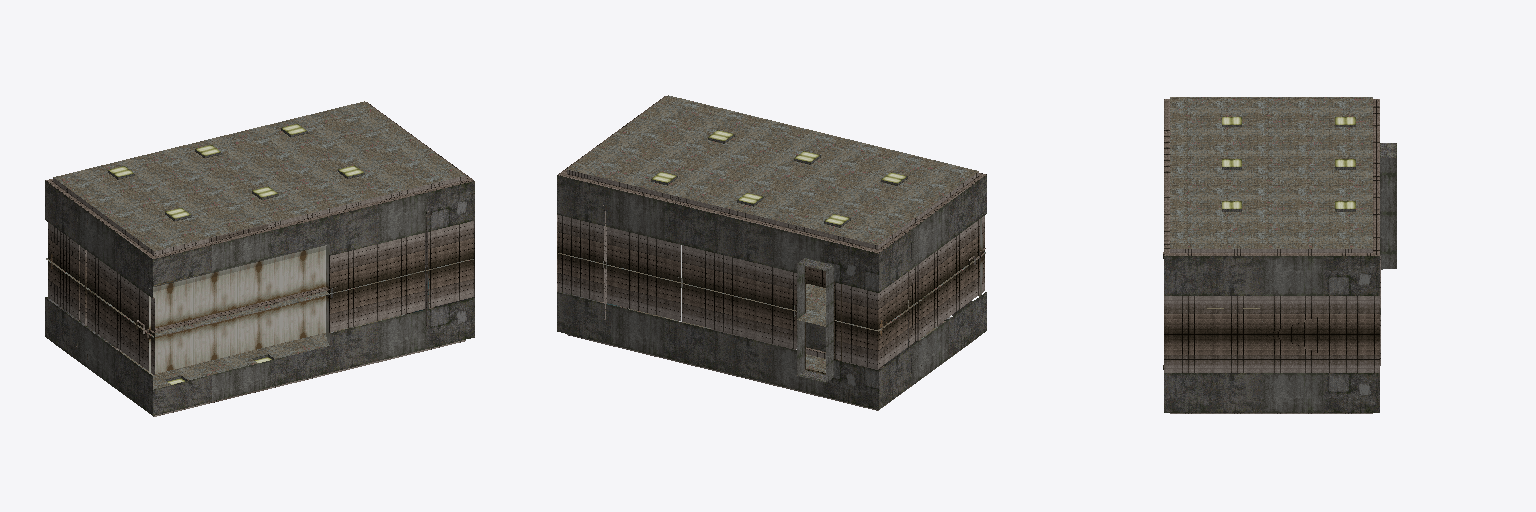
The picture shows the model from 3 angles: view 1: azimuth 30°, elevation 25°; view 2: azimuth 150°, elevation 25°; view 3: azimuth 270°, elevation 25°; orthographic projection.
Size of the model in its own units: 12.63 by 6.38 by 7.92.
20 materials, 19 textured.